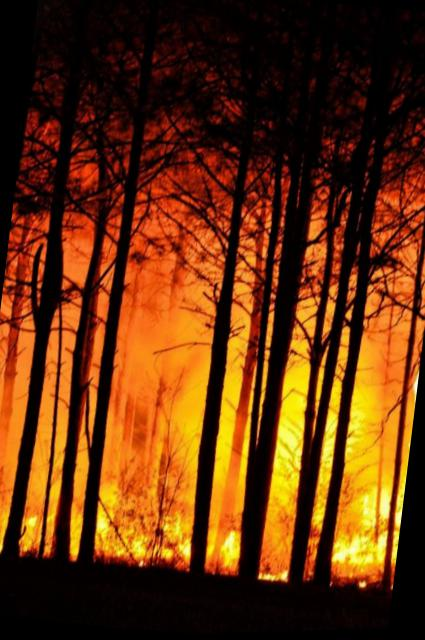fire: (0, 299, 410, 600)
